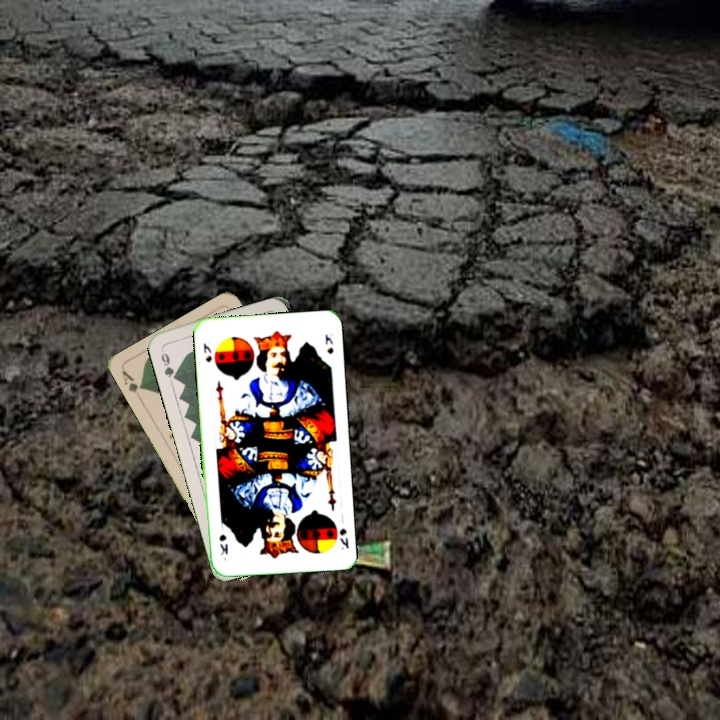G9: (157, 349, 180, 383)
GA: (118, 366, 146, 403)
SK: (335, 513, 351, 552), (199, 339, 214, 365)
